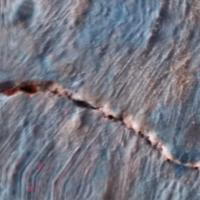crack: (0, 56, 199, 184)
